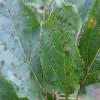Apple Scab Leaf: (0, 0, 47, 100), (39, 0, 86, 96)
